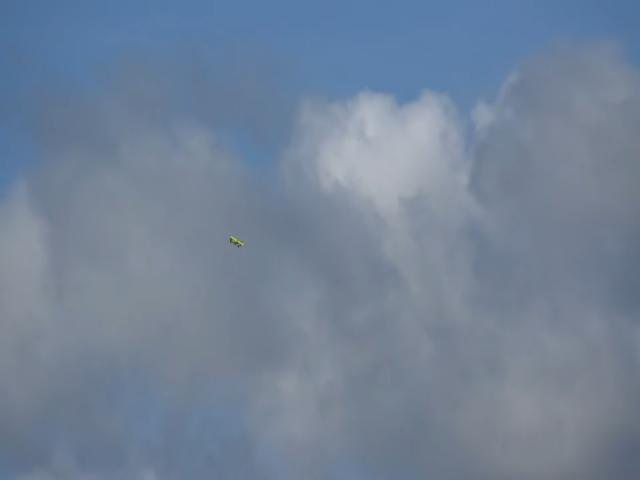plane: (228, 236, 245, 249)
